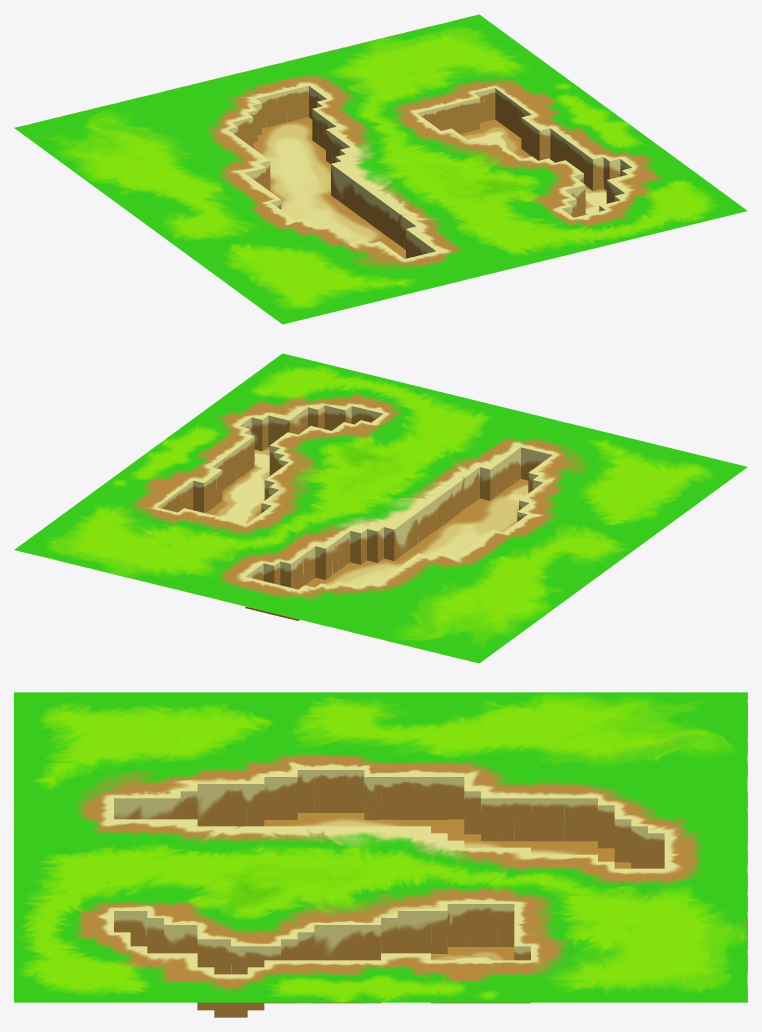
Rendered from terrenoOnlyU.fbx.
The picture shows the model from 3 angles, top to bottom: view 1: azimuth 30°, elevation 25°; view 2: azimuth 150°, elevation 25°; view 3: azimuth 270°, elevation 25°; orthographic projection. The views are drawn at different scales.
Visible parts, largest first — view 1: Grid; view 2: Grid; view 3: Grid.
Boxes of the visible parts, x1,y1,x2,y2 form: Grid: (14, 14, 747, 324); Grid: (14, 353, 747, 663); Grid: (14, 692, 747, 1017).
Size of the model in its own units: 200 by 12.94 by 200.
